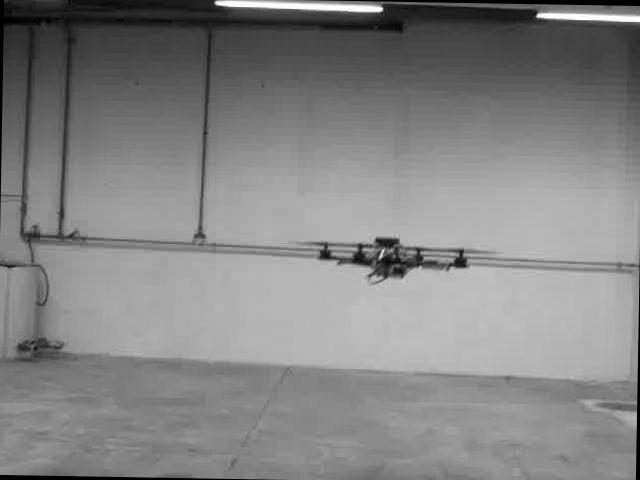drone: (306, 230, 470, 282)
